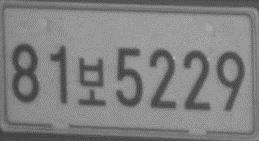1: (49, 44, 70, 105)
2: (147, 47, 178, 109), (182, 48, 212, 109)
5: (115, 47, 144, 108)
8: (11, 43, 40, 102)
9: (216, 50, 246, 112)
보: (76, 56, 108, 108)
